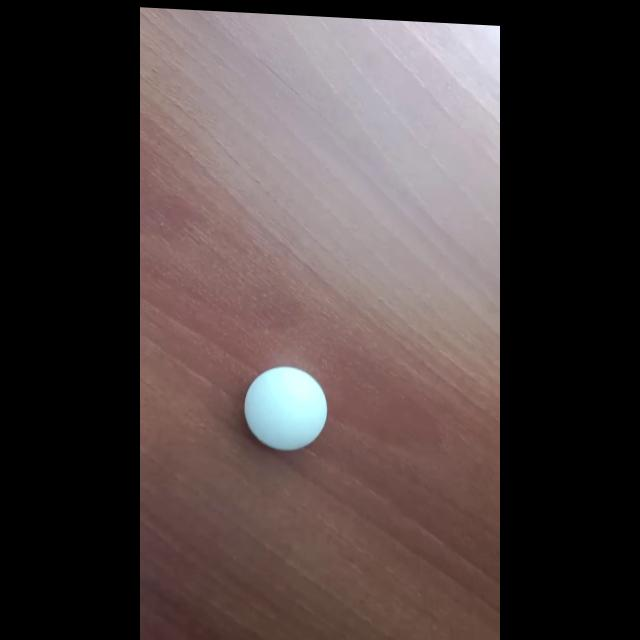white ball: (244, 364, 328, 454)
